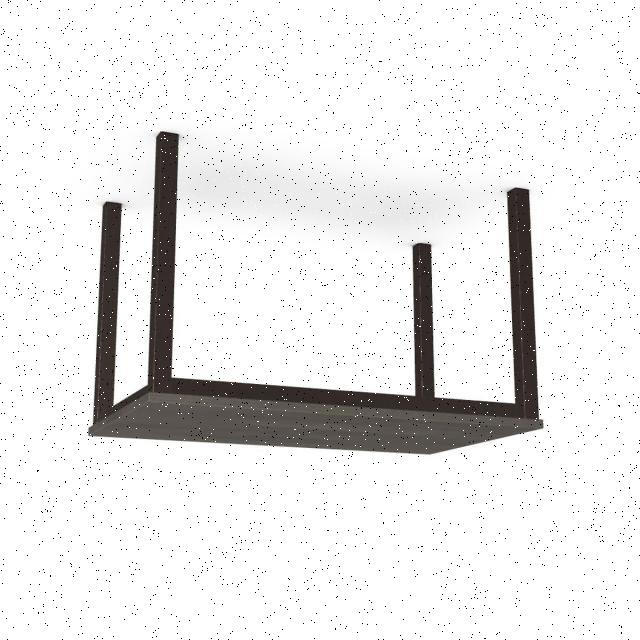mobile-phone: (80, 130, 547, 464)
